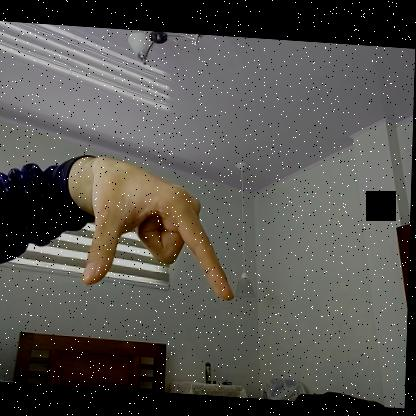Q: (84, 157, 242, 299)
